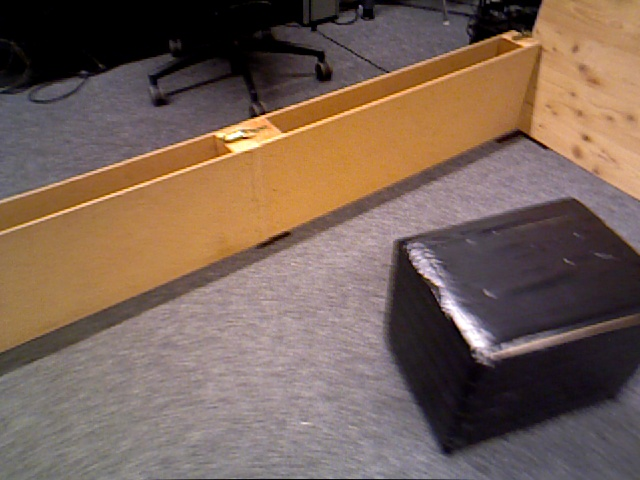push: (380, 197, 640, 453)
